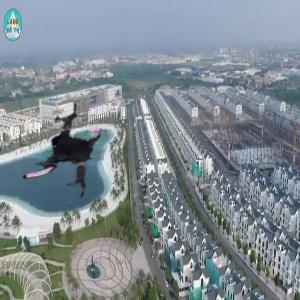drone: (3, 96, 116, 209)
